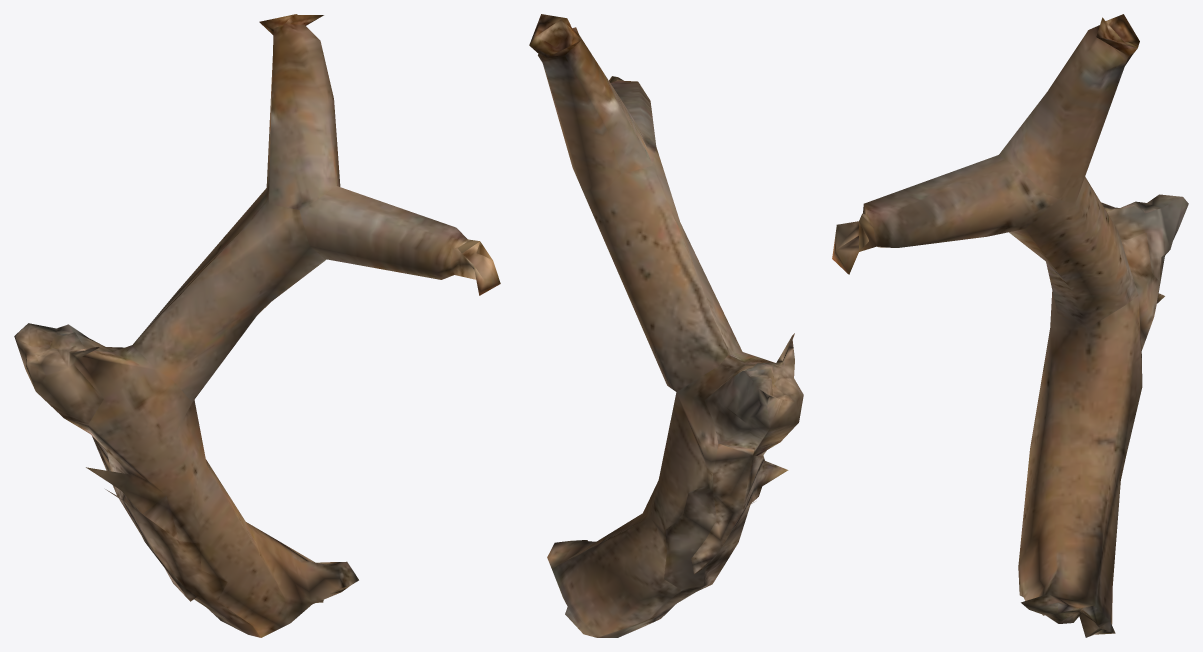
Rendered from dead_quiver_branch_01_lod1.glb.
3 renders of one model, left to right at view 1: azimuth 30°, elevation 25°; view 2: azimuth 150°, elevation 25°; view 3: azimuth 270°, elevation 25°, orthographic. The views are drawn at different scales.
Visible parts, largest first — view 1: dead_quiver_branch_01; view 2: dead_quiver_branch_01; view 3: dead_quiver_branch_01.
Boxes of the visible parts, x1,y1,x2,y2 form: dead_quiver_branch_01: [14, 14, 500, 637]; dead_quiver_branch_01: [529, 14, 803, 637]; dead_quiver_branch_01: [832, 14, 1188, 637].
Bounding box in the file's own units: 0.2528 × 0.4354 × 0.2231.
1 material, 1 textured.
